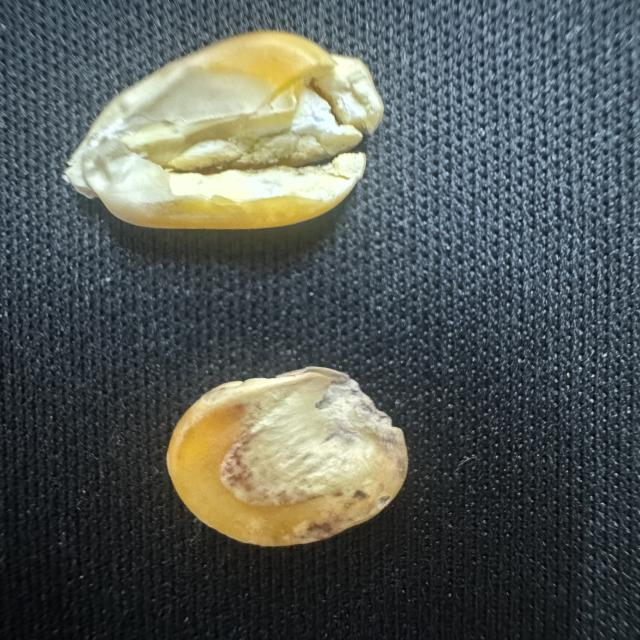Bad-Seed: (59, 23, 392, 240), (160, 363, 419, 553)
